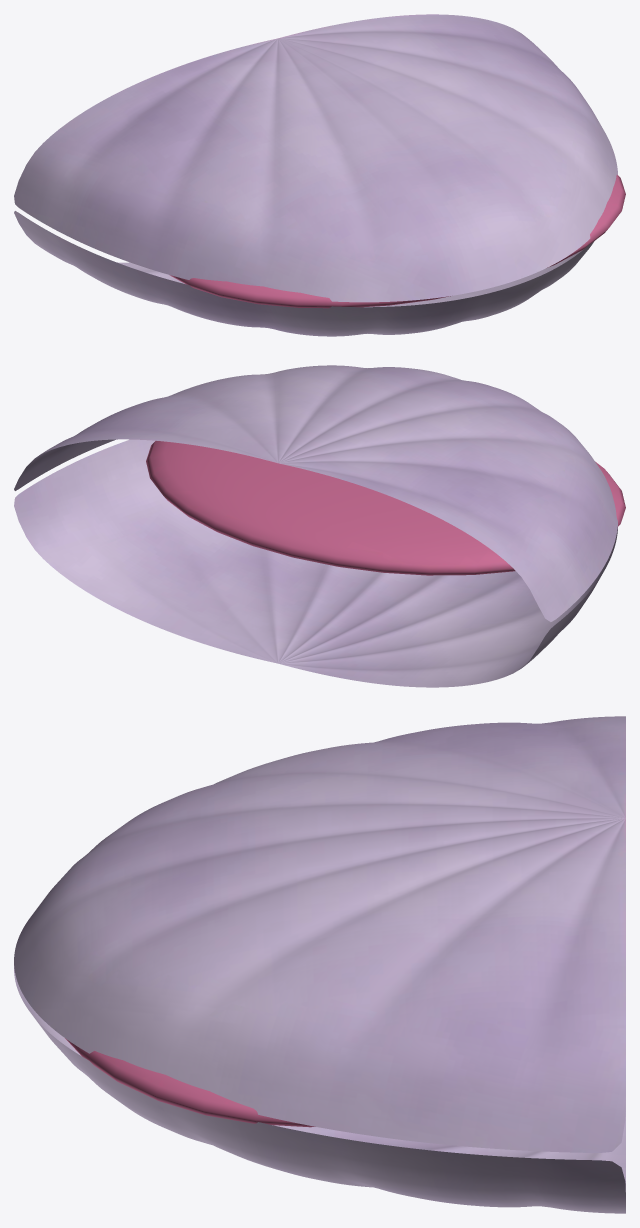
The model's file is d_shell.glb.
3 views of the same model, one above another, from view 1: azimuth 30°, elevation 25°; view 2: azimuth 150°, elevation 25°; view 3: azimuth 270°, elevation 25° (orthographic). The views are drawn at different scales.
Parts seen in each view (by area): view 1: shell; view 2: shell; view 3: shell.
Boxes of the visible parts, left/top/right/bottom form: shell: left=14, top=14, right=625, bottom=336; shell: left=14, top=365, right=625, bottom=687; shell: left=14, top=716, right=625, bottom=1213.
Size of the model in its own units: 0.9188 by 0.3291 by 0.6198.
1 material, 1 textured.
